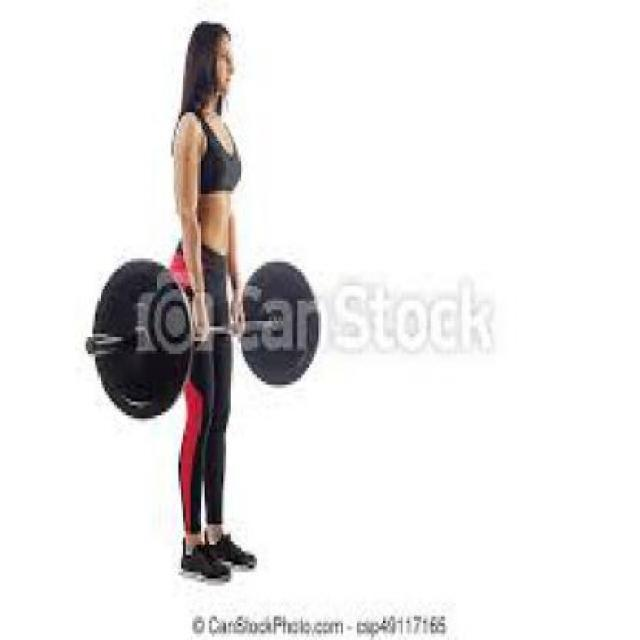Barbell: (78, 333, 100, 358)
